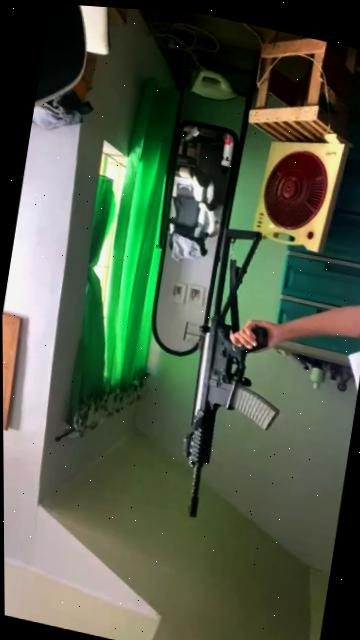rifle: (148, 232, 302, 543)
